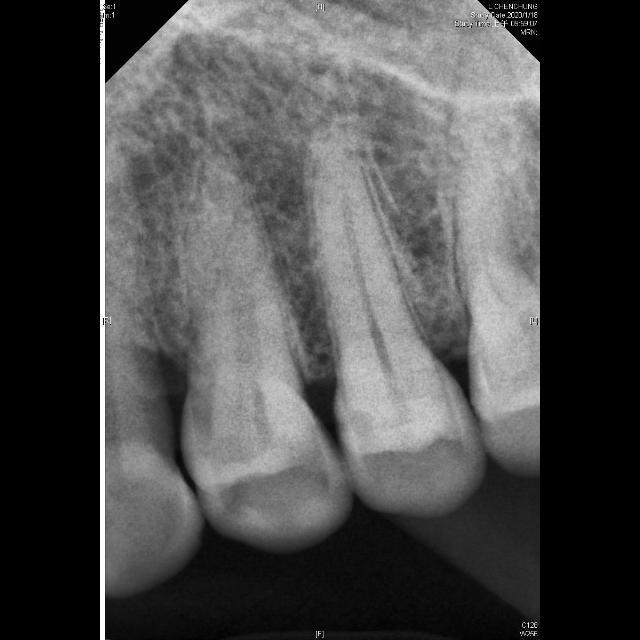tooth: (180, 168, 355, 556), (312, 126, 481, 512)
